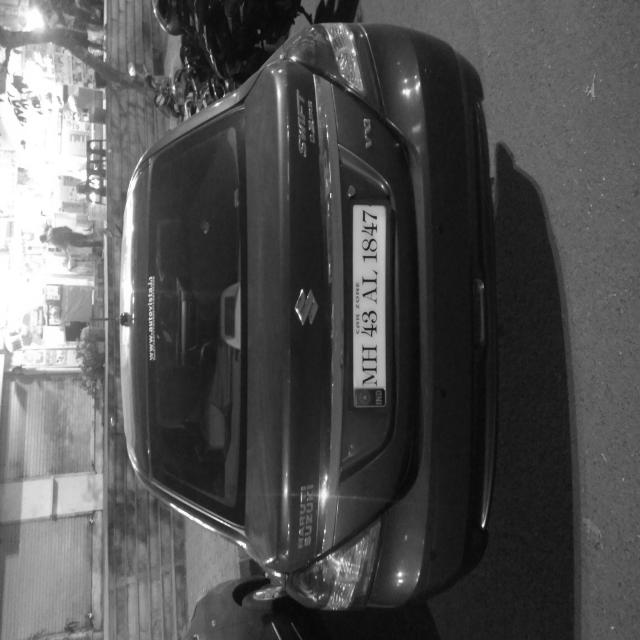car: (16, 162, 470, 640)
license-plate: (168, 462, 329, 523)
